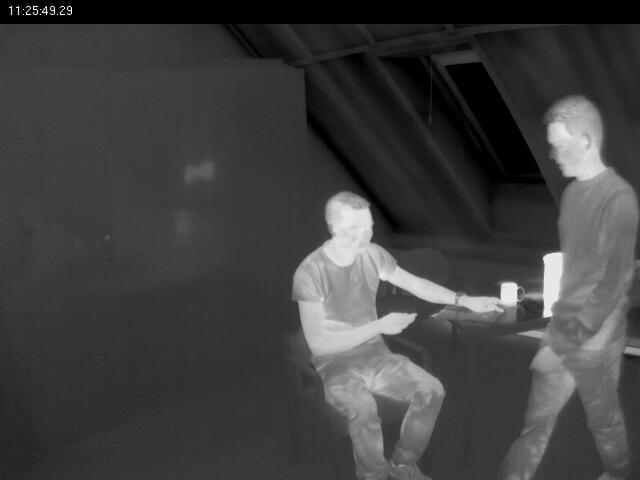person: (291, 191, 491, 480), (506, 74, 639, 478)
